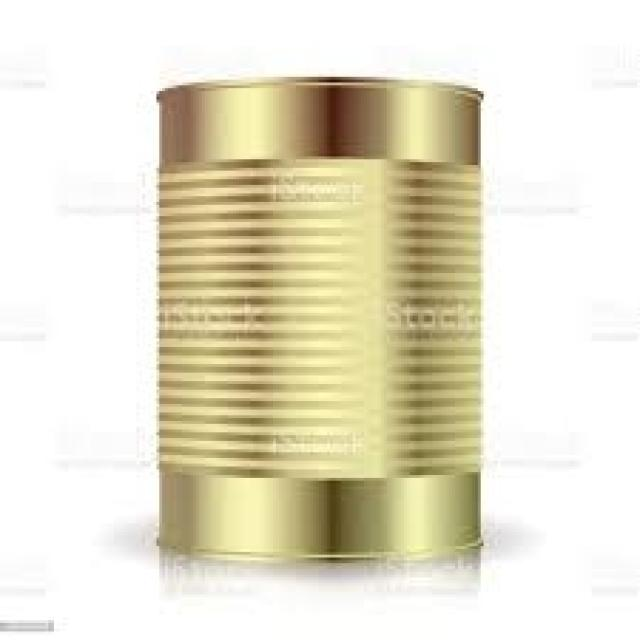kim_loai: (156, 77, 484, 569)
